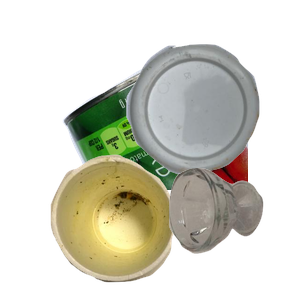glass: (166, 165, 300, 300)
metal: (60, 48, 300, 228)
plastic: (124, 42, 300, 210)
trash: (48, 152, 219, 300)
